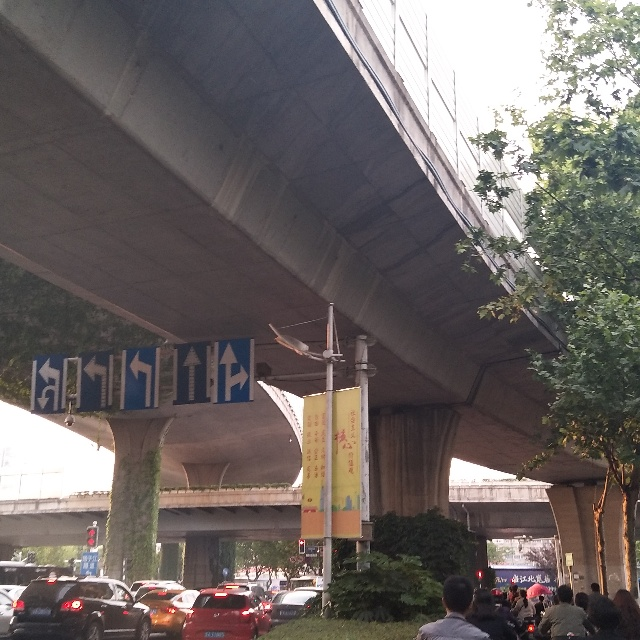left: (120, 344, 160, 414), (77, 349, 113, 417)
straight: (172, 341, 209, 409)
